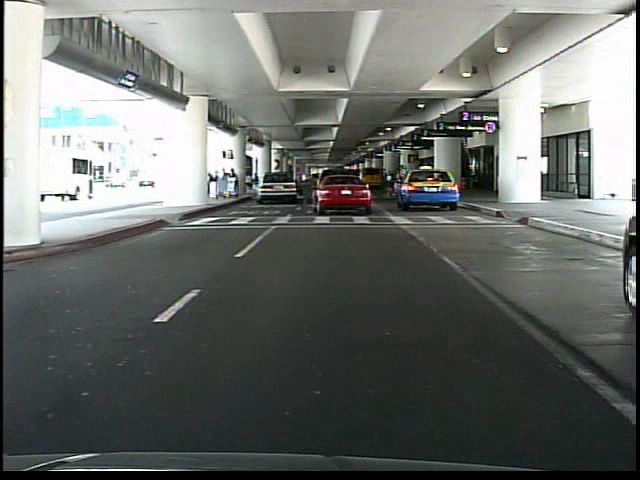person: (285, 165, 299, 202)
